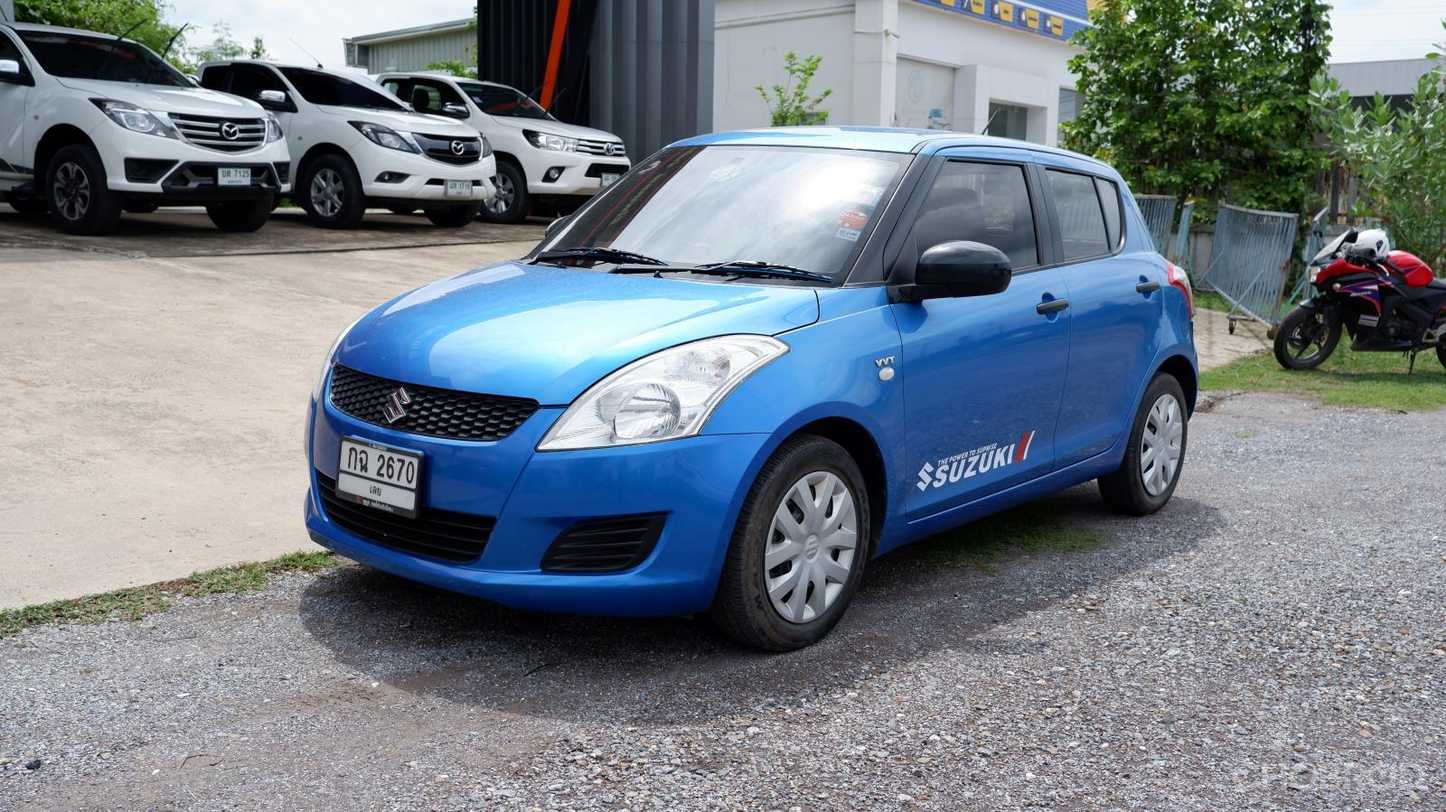license-plate: (334, 434, 430, 521), (214, 161, 253, 190), (443, 178, 475, 199), (602, 172, 623, 190)
